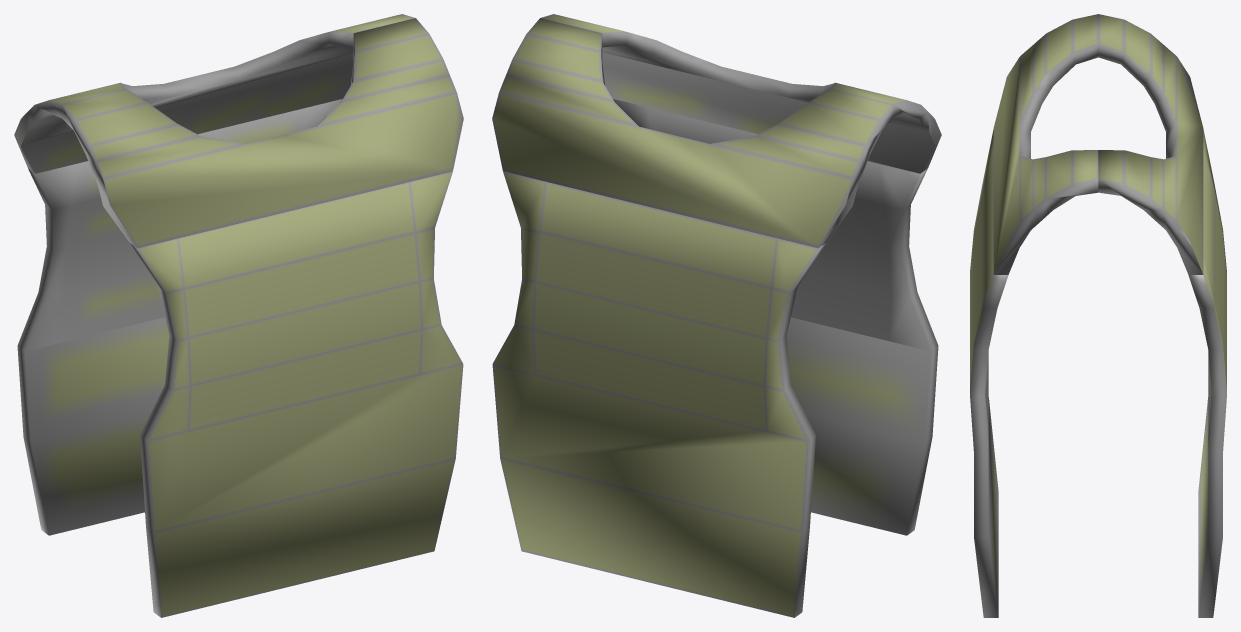
The model's file is armor_bonus.obj.
3 renders of one model, left to right at view 1: azimuth 30°, elevation 25°; view 2: azimuth 150°, elevation 25°; view 3: azimuth 270°, elevation 25°, orthographic. The views are drawn at different scales.
Parts seen in each view (by area): view 1: cube3; view 2: cube3; view 3: cube3.
Boxes of the visible parts, <box> form: cube3: <box>14,14,463,617</box>; cube3: <box>492,14,941,617</box>; cube3: <box>970,14,1226,617</box>.
Bounding box in the file's own units: 1 × 1.29 × 0.6576.
Materials: 1 (1 with a texture image).
